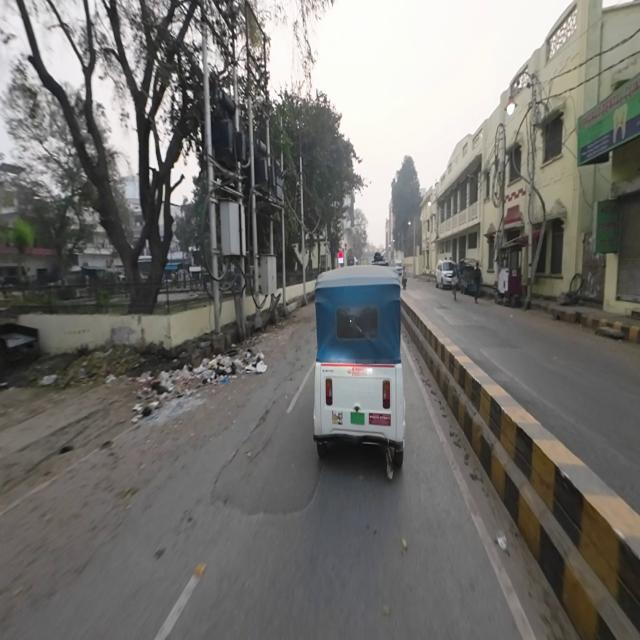Garbage: (133, 365, 199, 417), (202, 350, 270, 391)
